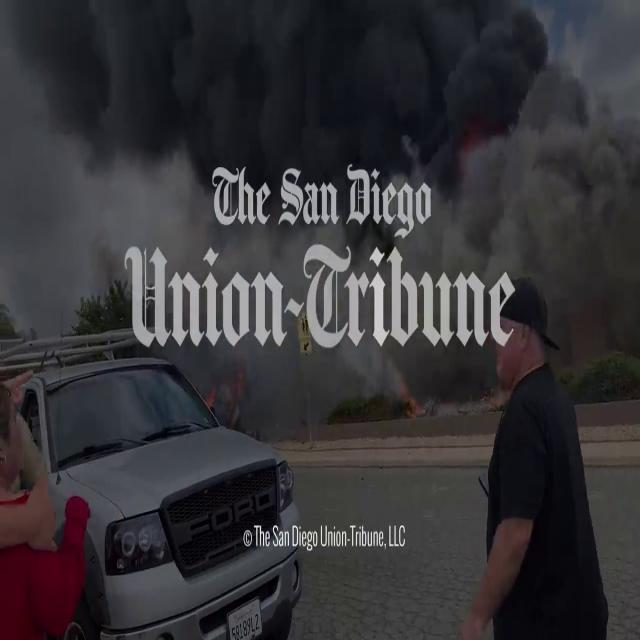Smoke: (2, 1, 634, 216)
